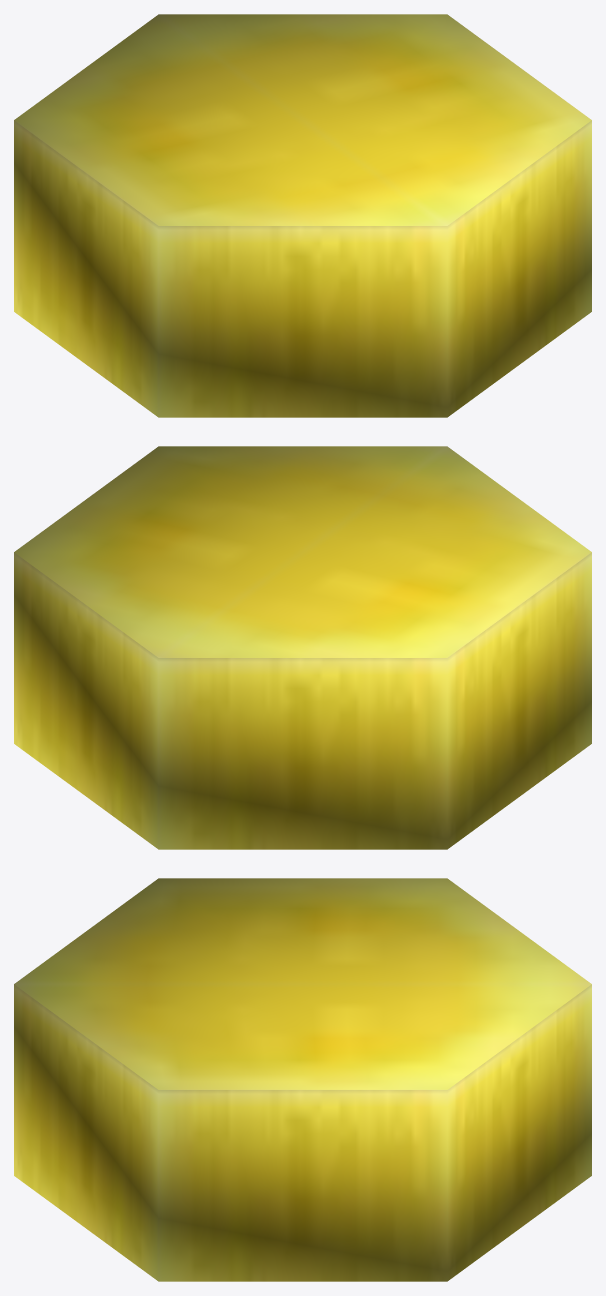
The model's file is cheese.glb.
The picture shows the model from 3 angles, top to bottom: view 1: azimuth 30°, elevation 25°; view 2: azimuth 150°, elevation 25°; view 3: azimuth 270°, elevation 25°; orthographic projection.
Parts seen in each view (by area): view 1: cheese_Geoset0; view 2: cheese_Geoset0; view 3: cheese_Geoset0.
Boxes of the visible parts, left/top/right/bottom form: cheese_Geoset0: left=14, top=14, right=591, bottom=417; cheese_Geoset0: left=14, top=446, right=591, bottom=849; cheese_Geoset0: left=14, top=878, right=591, bottom=1281.
Bounding box in the file's own units: 0.0778 × 0.0329 × 0.0898.
1 material, 1 textured.
